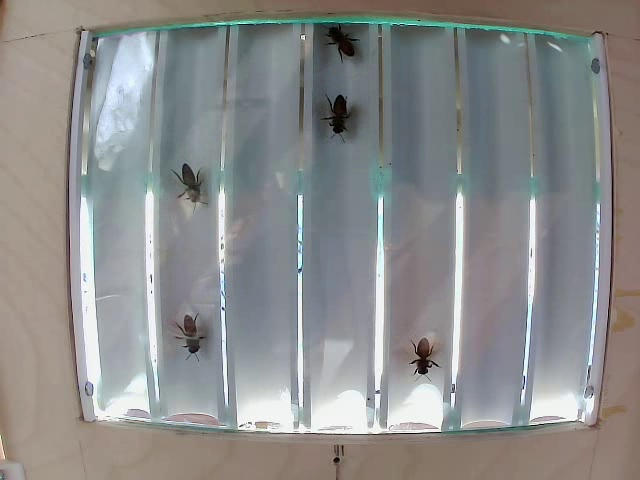bee: (321, 22, 368, 70), (322, 81, 353, 139), (173, 308, 209, 356), (175, 151, 204, 206), (407, 323, 428, 384)
